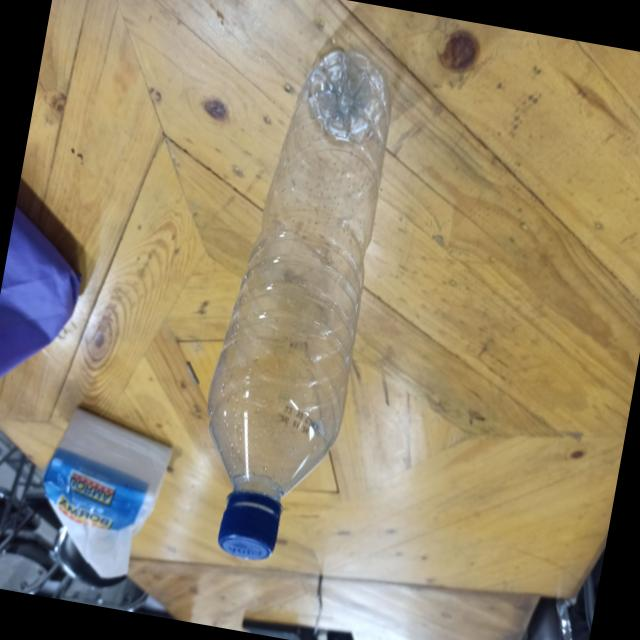BotolPlastik: (180, 36, 408, 574)
